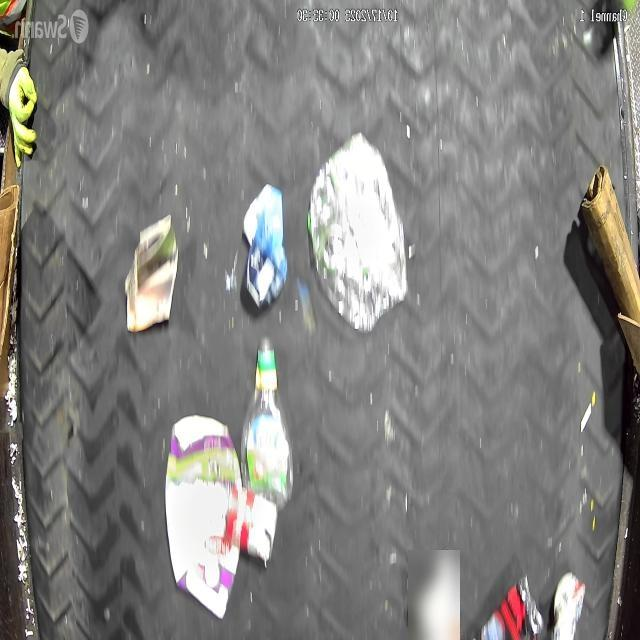non_white_jug: (164, 413, 242, 620)
plastic_bottle: (240, 338, 291, 506)
